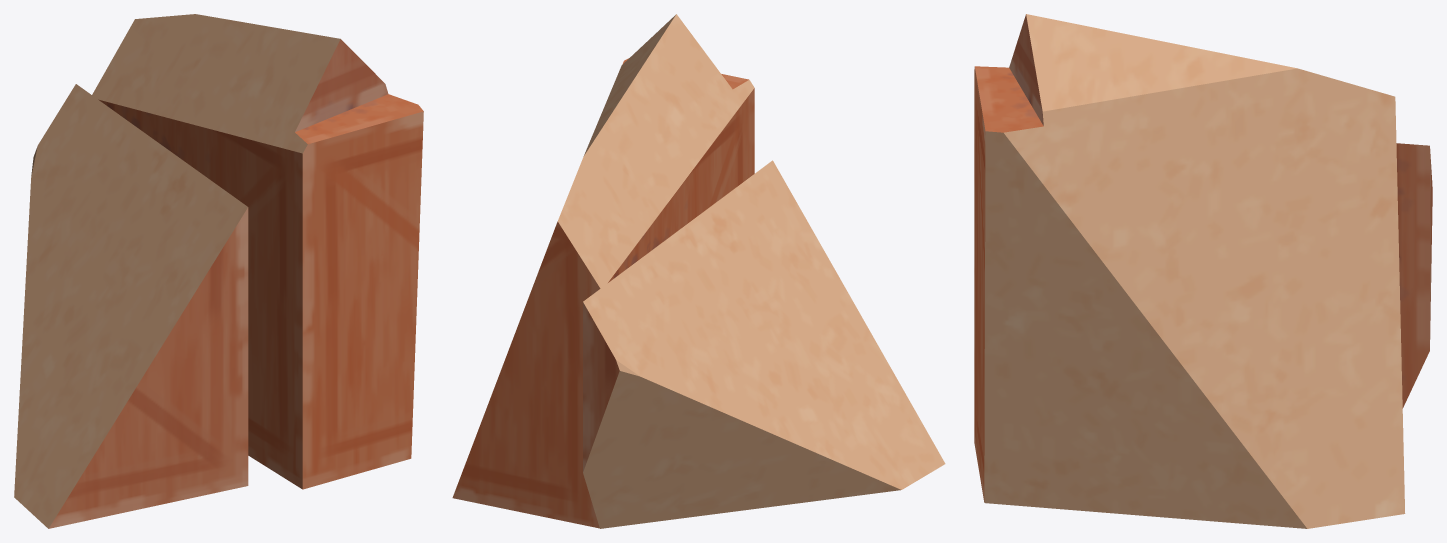
File: stack_crates_s05.fbx
The picture shows the model from 3 angles, left to right: view 1: azimuth 30°, elevation 25°; view 2: azimuth 150°, elevation 25°; view 3: azimuth 270°, elevation 25°; orthographic projection. The views are drawn at different scales.
Parts seen in each view (by area): view 1: stack_crates_s05; view 2: stack_crates_s05; view 3: stack_crates_s05.
Boxes of the visible parts, x1,y1,x2,y2 form: stack_crates_s05: (14,14,423,528); stack_crates_s05: (452,14,945,528); stack_crates_s05: (974,14,1432,528).
Bounding box in the file's own units: 3.58 × 3.65 × 3.29.
